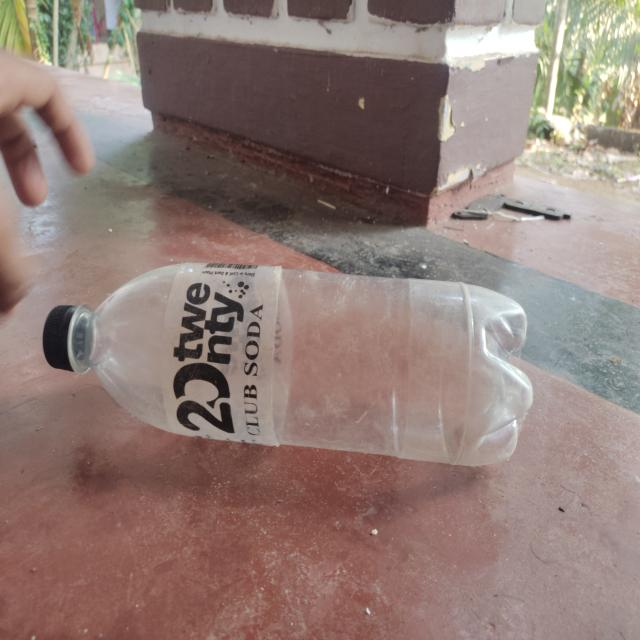plastic: (42, 258, 536, 470)
